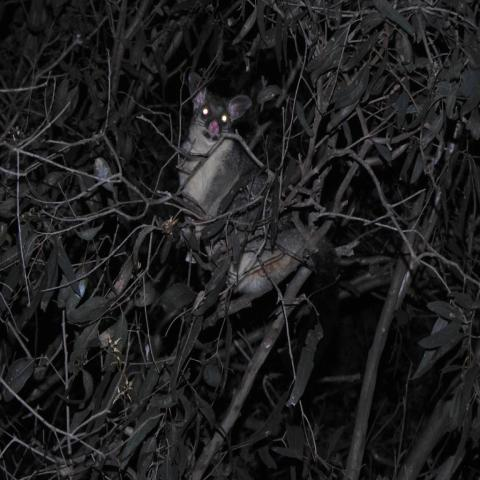small_animal: (175, 71, 347, 365)
